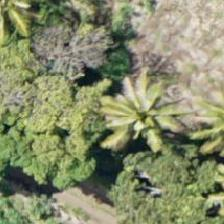coconut_tree: (94, 73, 184, 163), (54, 139, 144, 223)
